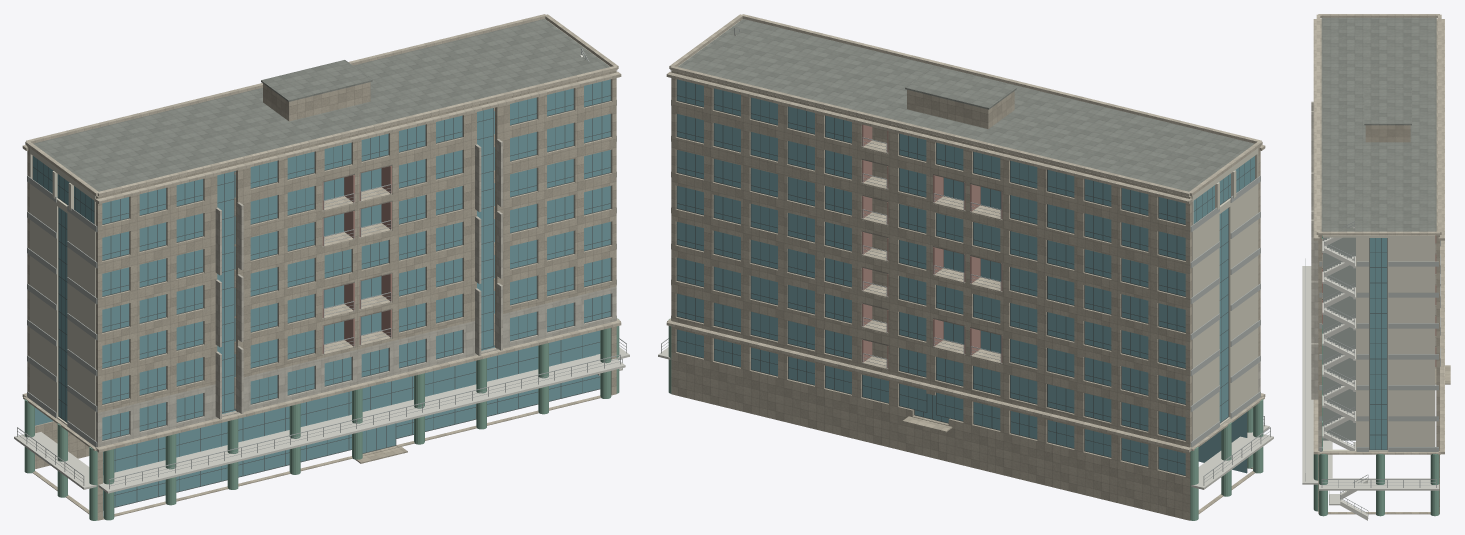
The picture shows the model from 3 angles, left to right: view 1: azimuth 30°, elevation 25°; view 2: azimuth 150°, elevation 25°; view 3: azimuth 270°, elevation 25°; orthographic projection. The views are drawn at different scales.
Parts seen in each view (by area): view 1: research__glass, research__stone, research__roof, research__frame, research__trim, research__pale, research__endwall, research__stair-landing, research__mint, research__rail, research__endband, research__pink; view 2: research__stone, research__glass, research__roof, research__trim, research__frame, research__endwall, research__pink, research__endband, research__mint, research__rail, research__stair-landing, research__balcony-back; view 3: research__roof, research__endwall, research__trim, research__stair-landing, research__stairShade, research__glass, research__stone, research__endband, research__stairConcrete, research__mint, research__rail, research__pale (+2 smaller).
Boxes of the visible parts, left/top/right/bottom form: research__glass: left=33, top=79, right=610, bottom=509; research__stone: left=27, top=19, right=616, bottom=520; research__roof: left=33, top=19, right=609, bottom=191; research__frame: left=32, top=79, right=611, bottom=510; research__trim: left=22, top=14, right=621, bottom=452; research__pale: left=96, top=139, right=616, bottom=447; research__endwall: left=29, top=21, right=610, bottom=440; research__stair-landing: left=14, top=347, right=629, bottom=493; research__mint: left=24, top=318, right=619, bottom=520; research__rail: left=17, top=48, right=626, bottom=489; research__endband: left=27, top=100, right=616, bottom=447; research__pink: left=322, top=166, right=391, bottom=353; research__stone: left=671, top=19, right=1260, bottom=520; research__glass: left=677, top=79, right=1254, bottom=475; research__roof: left=678, top=19, right=1254, bottom=191; research__trim: left=666, top=14, right=1265, bottom=452; research__frame: left=676, top=79, right=1255, bottom=475; research__endwall: left=677, top=21, right=1258, bottom=440; research__pink: left=862, top=124, right=1002, bottom=368; research__endband: left=671, top=100, right=1260, bottom=447; research__mint: left=668, top=318, right=1263, bottom=520; research__rail: left=661, top=28, right=1270, bottom=485; research__stair-landing: left=658, top=347, right=1273, bottom=489; research__balcony-back: left=872, top=127, right=887, bottom=358; research__roof: left=1321, top=17, right=1436, bottom=231; research__endwall: left=1323, top=235, right=1435, bottom=451; research__trim: left=1313, top=14, right=1444, bottom=454; research__stair-landing: left=1302, top=241, right=1439, bottom=505; research__stairShade: left=1323, top=237, right=1355, bottom=440; research__glass: left=1370, top=238, right=1386, bottom=449; research__stone: left=1318, top=18, right=1439, bottom=514; research__endband: left=1319, top=261, right=1438, bottom=451; research__stairConcrete: left=1324, top=227, right=1367, bottom=520; research__mint: left=1313, top=235, right=1439, bottom=516; research__rail: left=1305, top=221, right=1440, bottom=515; research__pale: left=1311, top=101, right=1321, bottom=450.
Size of the model in its own units: 60.35 by 36.91 by 16.53.
Materials: 14 (5 with a texture image).
